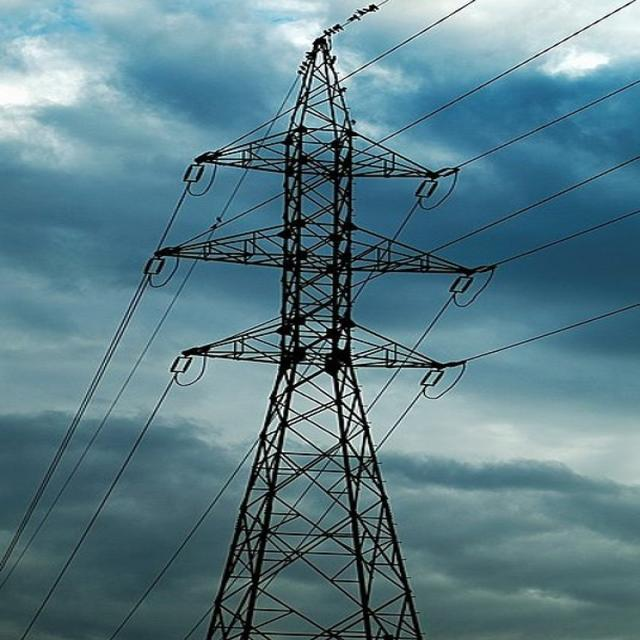non-critical vegetation: (184, 39, 479, 622)
